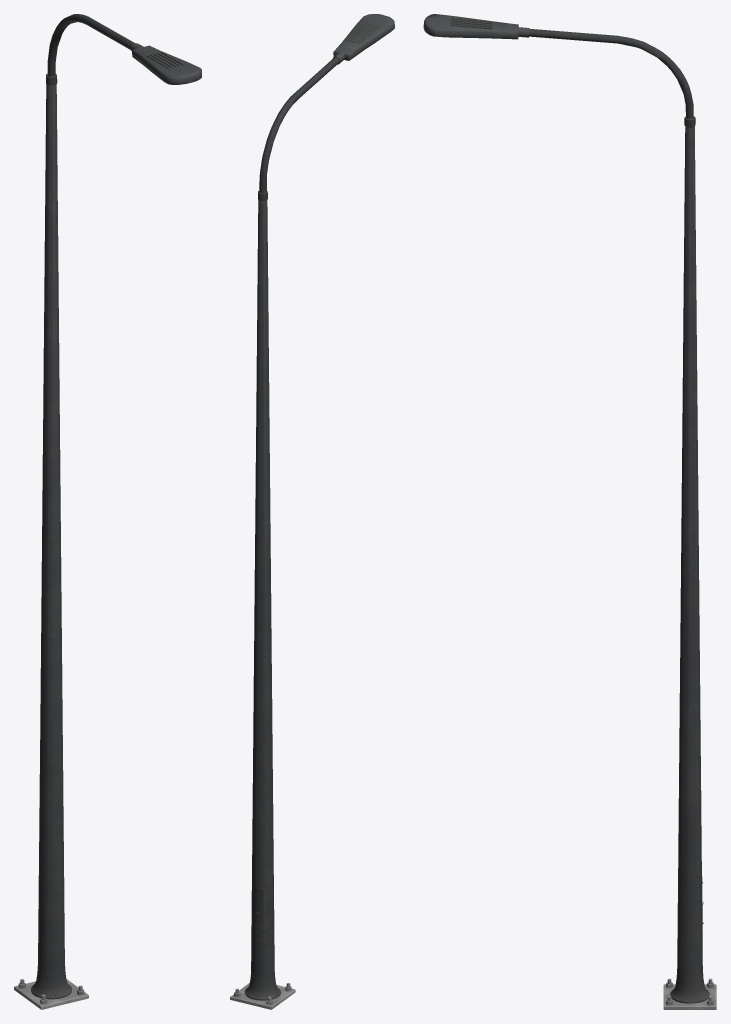
File: streetlight.glb
3 renders of one model, left to right at view 1: azimuth 30°, elevation 25°; view 2: azimuth 150°, elevation 25°; view 3: azimuth 270°, elevation 25°, orthographic. The views are drawn at different scales.
Parts seen in each view (by area): view 1: street-light_body; view 2: street-light_body; view 3: street-light_body.
Boxes of the visible parts, left/top/right/bottom form: street-light_body: left=14, top=14, right=201, bottom=1009; street-light_body: left=230, top=14, right=394, bottom=1009; street-light_body: left=423, top=14, right=716, bottom=1009.
Size of the model in its own units: 0.4003 by 8.16 by 2.21.
2 materials, 2 textured.
